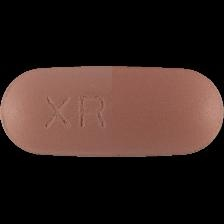0310-0280: (0, 0, 224, 224)
